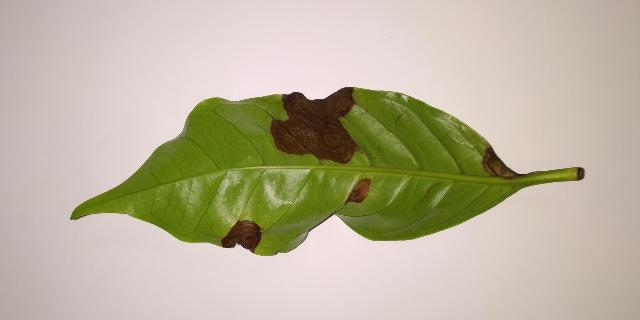rust: (270, 88, 360, 163), (482, 145, 534, 179), (222, 220, 261, 252), (347, 178, 371, 203)
